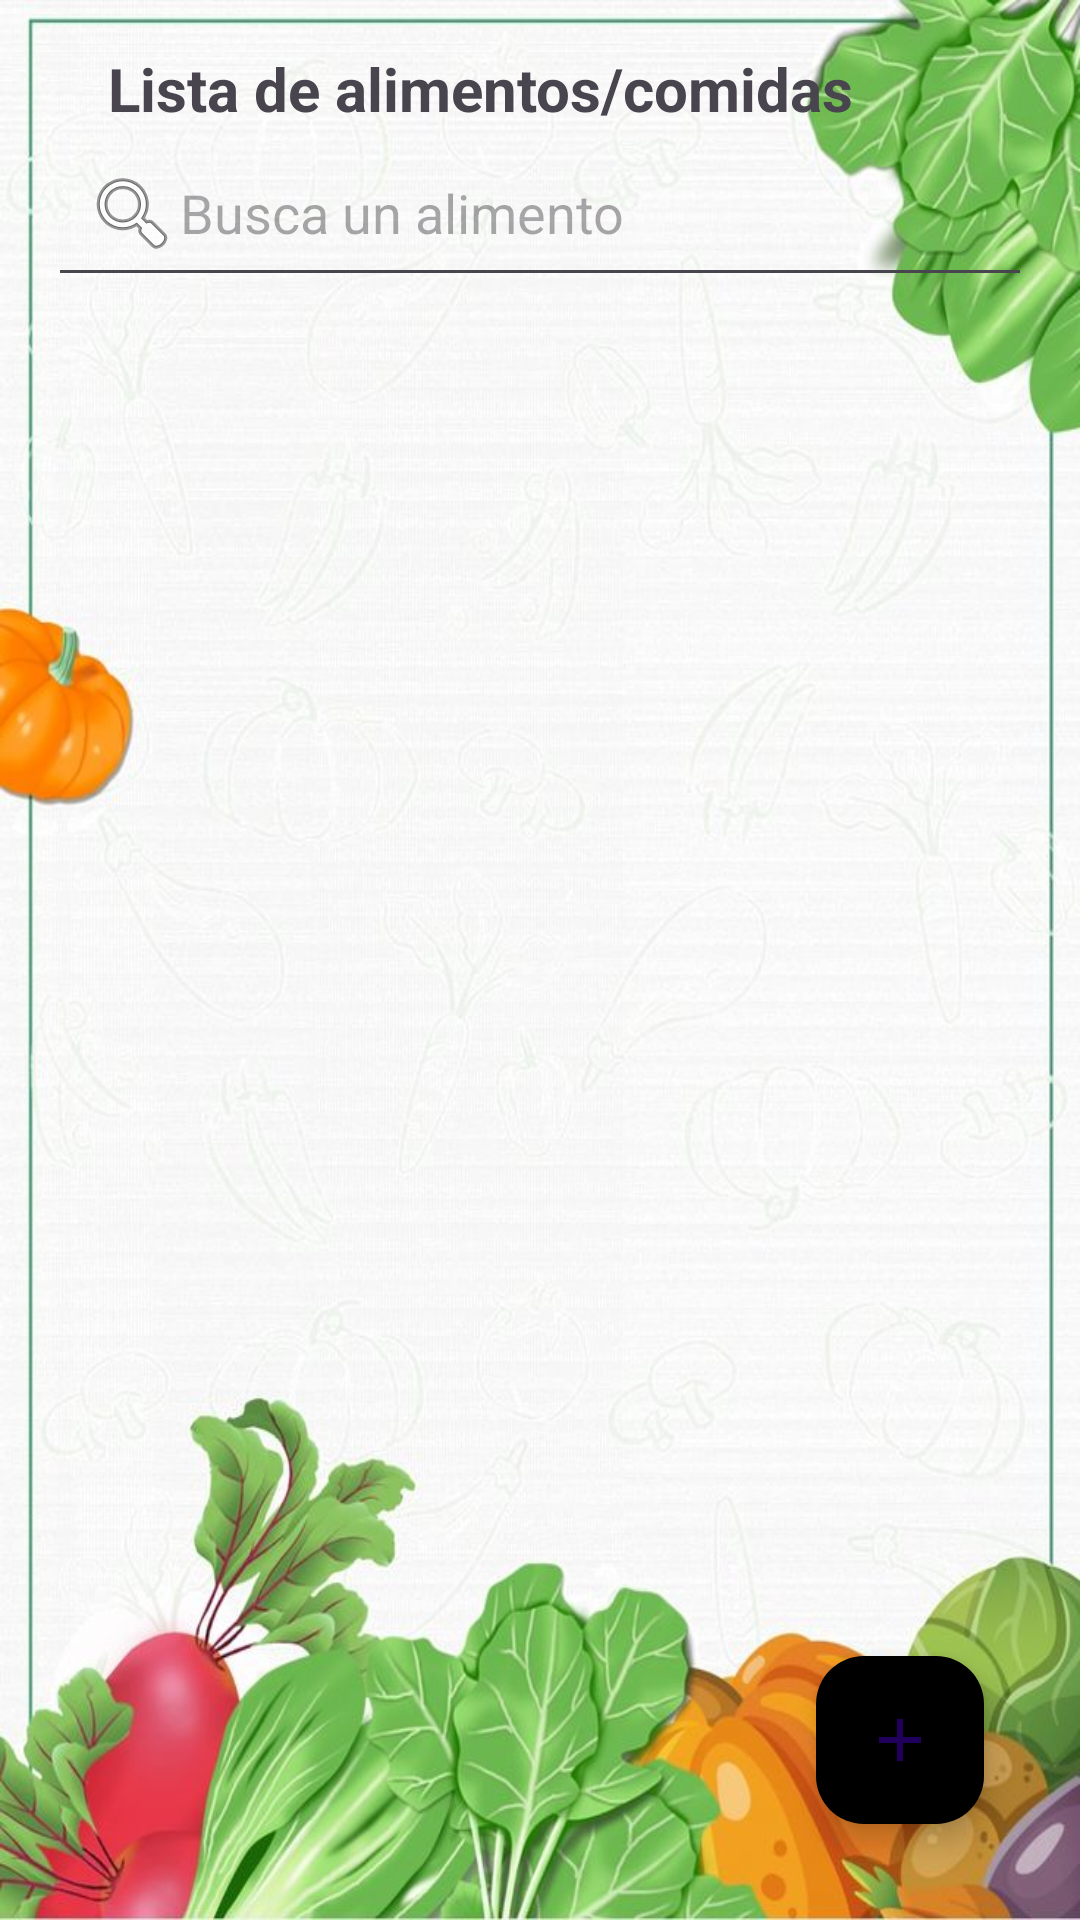

Icons on this 1080×1920 Android screen, each with the point to tap as (x,y):
Agregar comida: (900,1740)
